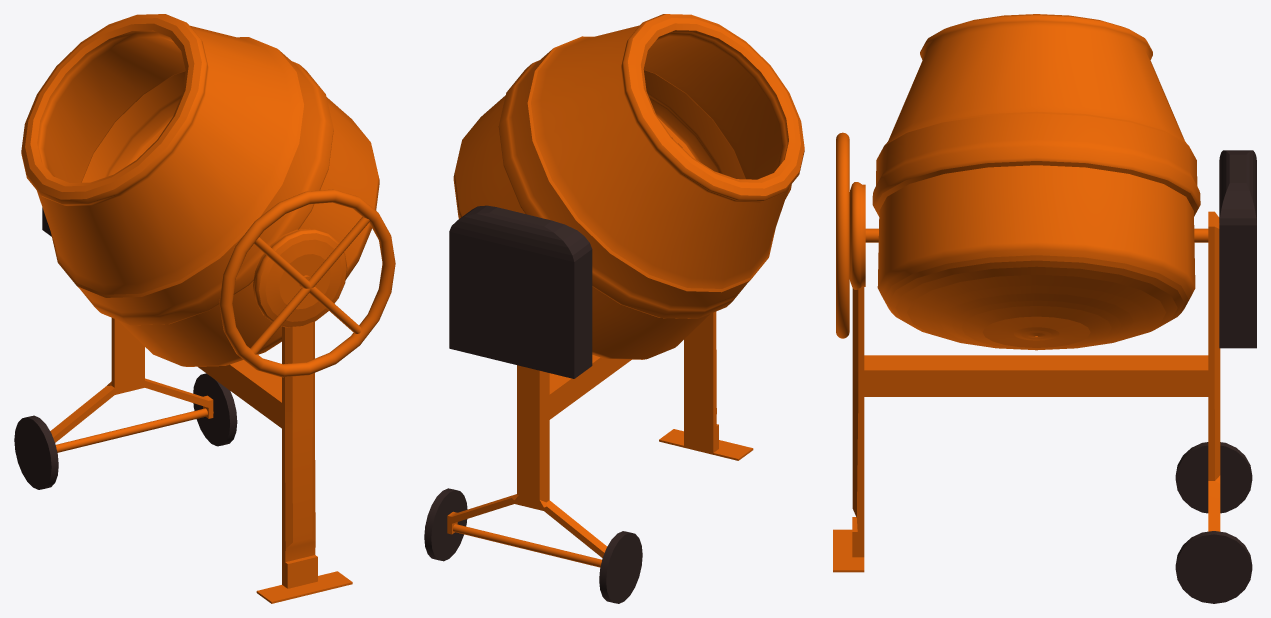
File: cementcar.fbx
3 renders of one model, left to right at view 1: azimuth 30°, elevation 25°; view 2: azimuth 150°, elevation 25°; view 3: azimuth 270°, elevation 25°, orthographic. The views are drawn at different scales.
Parts seen in each view (by area): view 1: pPipe1, pCube1, pTorus1, pCylinder2, pCylinder5, pCylinder6, pCylinder11, pCylinder1, pCylinder7, pCylinder10; view 2: pPipe1, pCube2, pCube1, pCylinder5, pCylinder6, pCylinder1; view 3: pPipe1, pCube1, pCube2, pCylinder6, pCylinder5, pTorus1, pCylinder2.
Boxes of the visible parts, box(x1,y1,x2,y2) form: pPipe1: box(21, 14, 379, 366); pCube1: box(50, 318, 352, 603); pTorus1: box(219, 189, 395, 377); pCylinder2: box(253, 228, 347, 327); pCylinder5: box(14, 415, 58, 489); pCylinder6: box(193, 373, 237, 446); pCylinder11: box(250, 217, 369, 354); pCylinder1: box(55, 408, 213, 452); pCylinder7: box(254, 237, 361, 333); pCylinder10: box(255, 238, 361, 332); pPipe1: box(453, 14, 804, 359); pCube2: box(449, 205, 592, 378); pCube1: box(447, 311, 753, 557); pCylinder5: box(599, 531, 642, 603); pCylinder6: box(424, 488, 467, 561); pCylinder1: box(453, 524, 601, 567); pPipe1: box(872, 14, 1200, 350); pCube1: box(833, 211, 1220, 572); pCube2: box(1219, 150, 1256, 348); pCylinder6: box(1175, 531, 1252, 603); pCylinder5: box(1175, 442, 1252, 513); pTorus1: box(836, 132, 849, 338); pCylinder2: box(849, 182, 865, 289).
Size of the model in its own units: 2.46 by 3.84 by 2.79.
